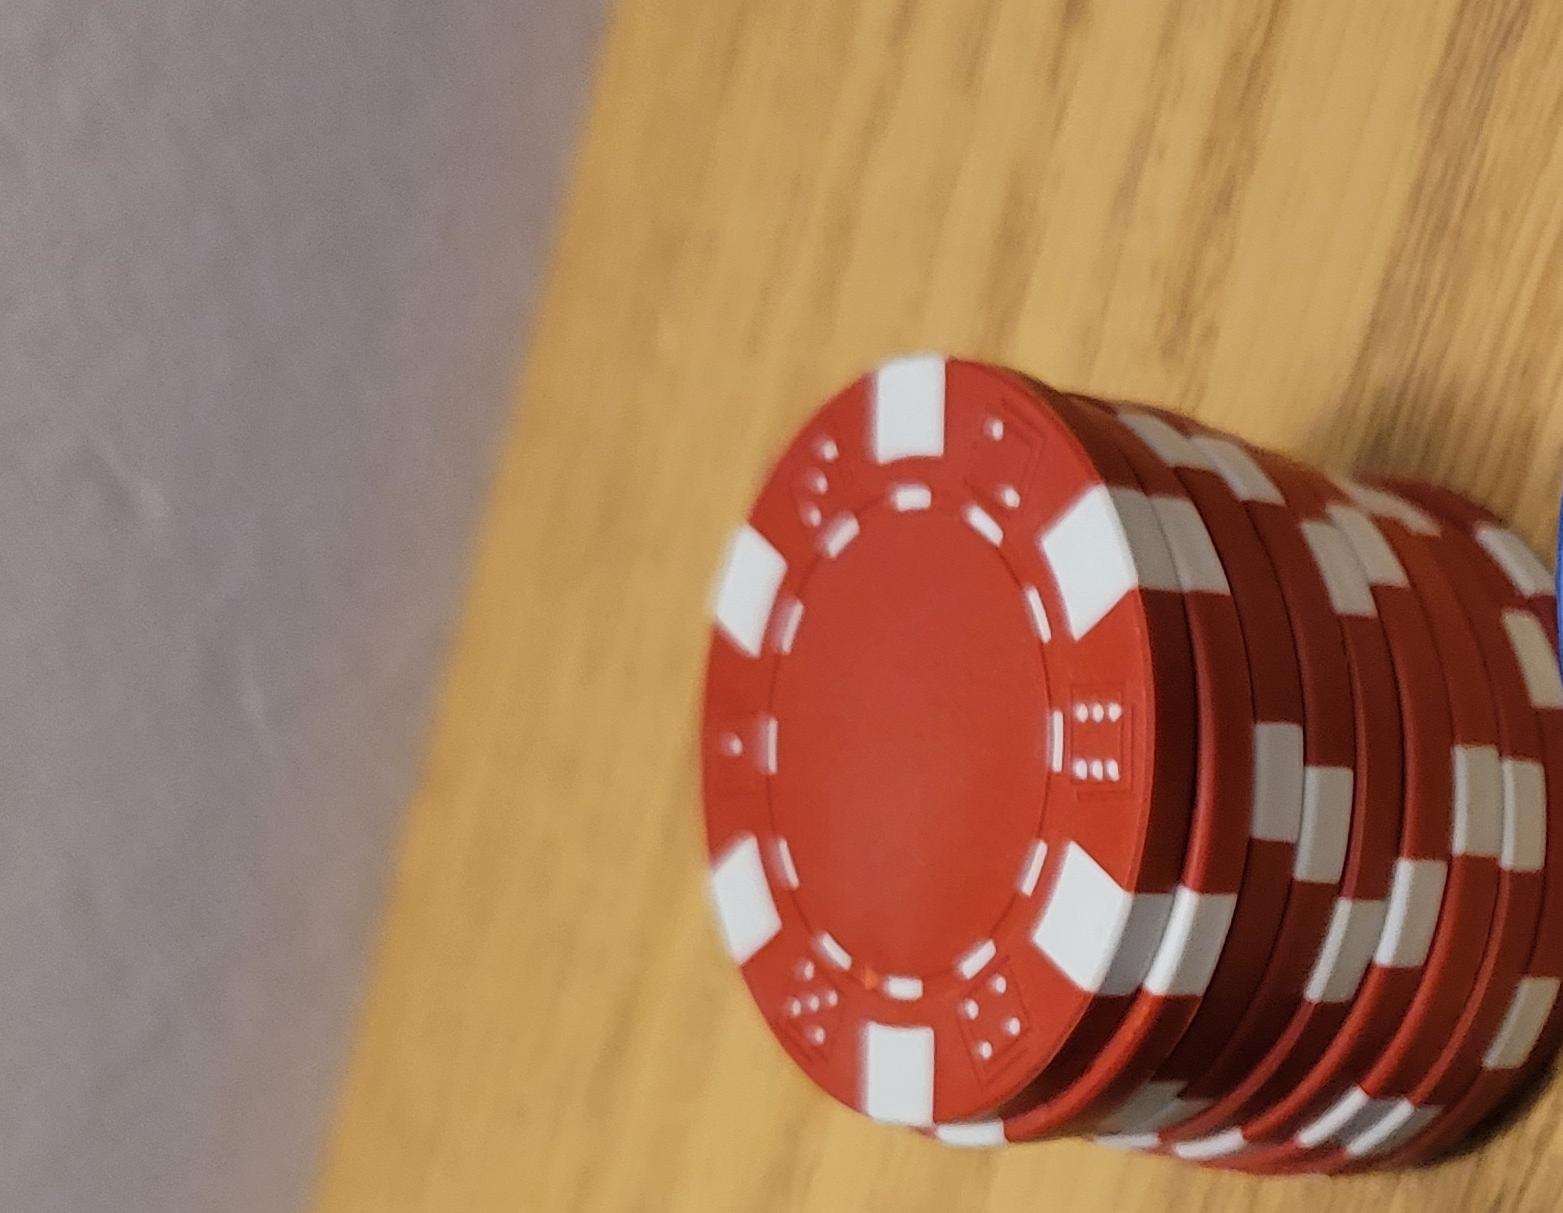Chip: (1, 138, 1083, 1213)
